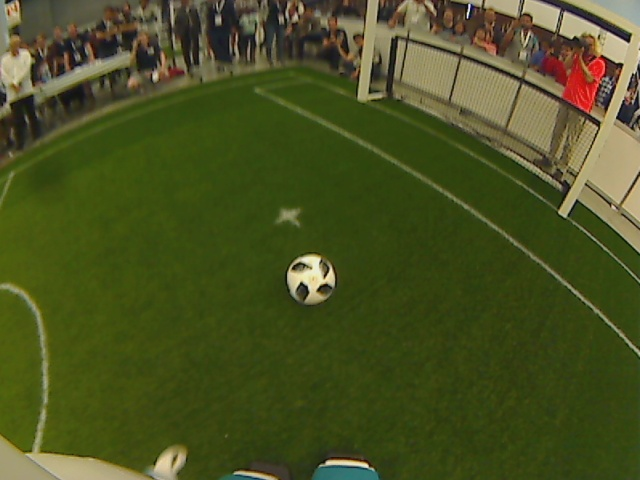ball: (284, 253, 338, 306)
